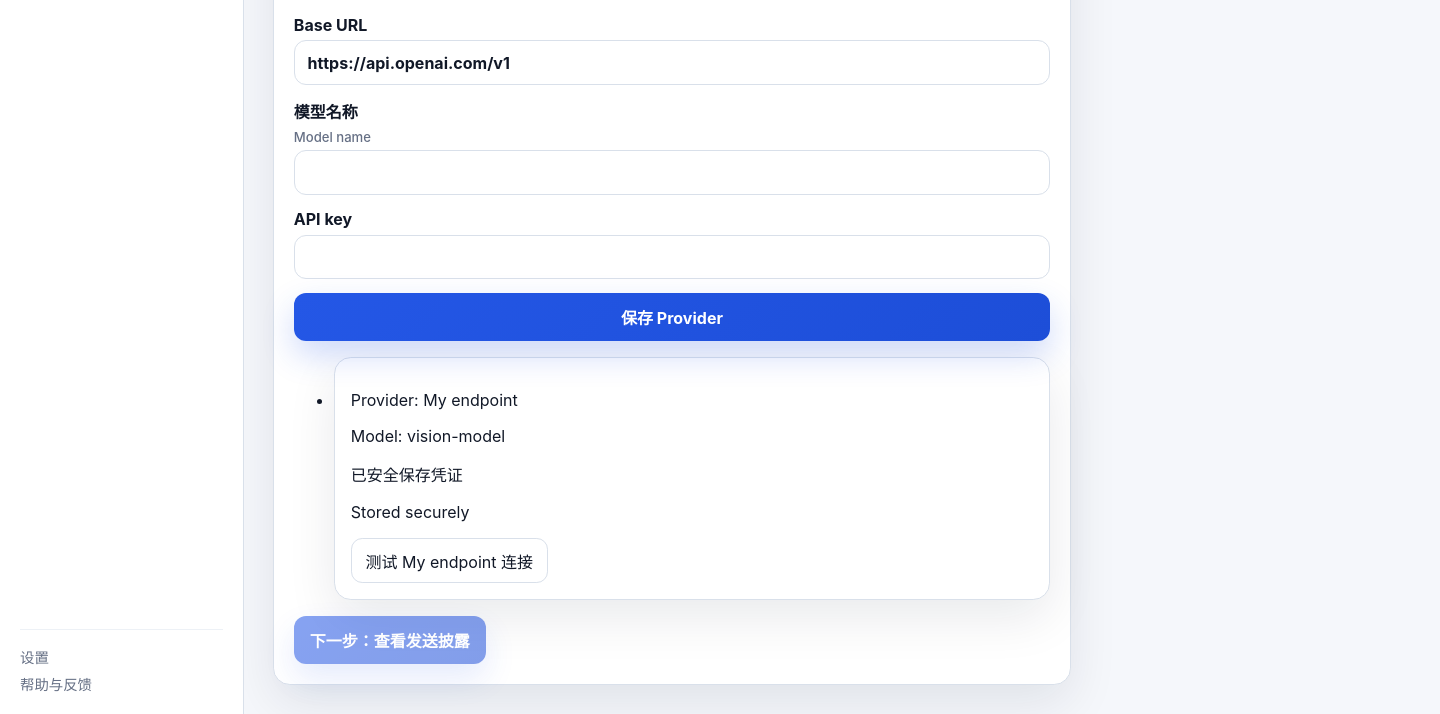
it: ProviderSettingsPage › tests provider connectivity and blocks analysis when image input is unsupported
The width and height of the screenshot is (1440, 714).
(page scrolled)
Click the button with aria-label "Test connection for My endpoint": (449,561) [351, 538, 548, 583]
(page scrolled)
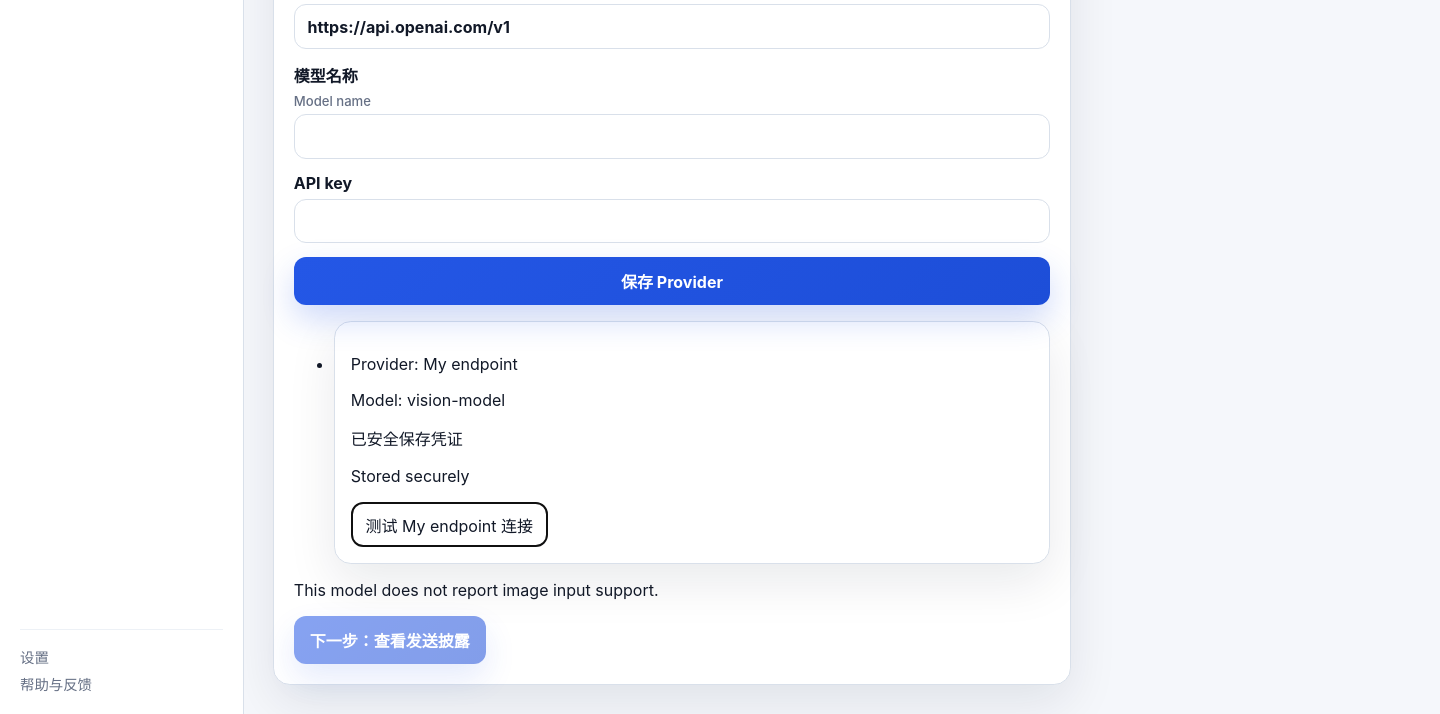
Check: the button with aria-label "Continue to disclosure" is disabled, box [294, 616, 486, 664]
Check: the text "This model does not report image input support." is shown, box [294, 580, 658, 600]
